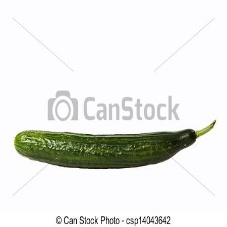cucumber: (13, 129, 196, 170)
